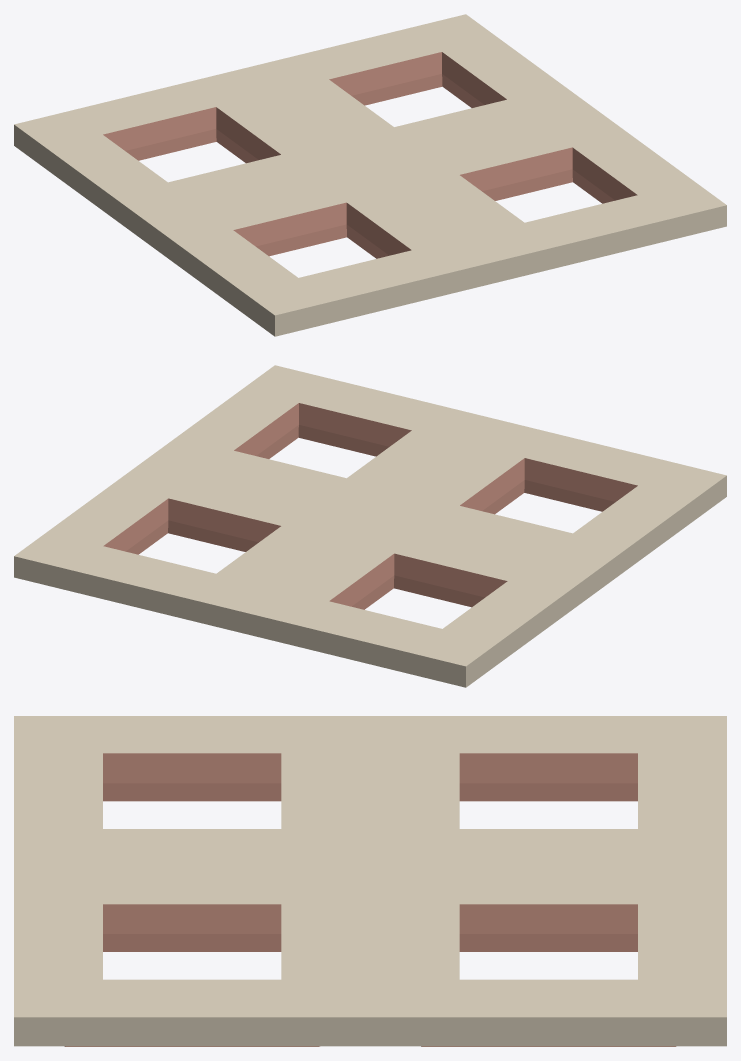
File: Room1Ceiling.fbx
3 views of the same model, one above another, from view 1: azimuth 30°, elevation 25°; view 2: azimuth 150°, elevation 25°; view 3: azimuth 270°, elevation 25° (orthographic). The views are drawn at different scales.
Parts seen in each view (by area): view 1: Cube; view 2: Cube; view 3: Cube.
Boxes of the visible parts, box(x1,y1,x2,y2) form: Cube: box(14, 14, 726, 336); Cube: box(14, 365, 726, 687); Cube: box(14, 716, 726, 1046).
Size of the model in its own units: 10000 by 754 by 10000.
